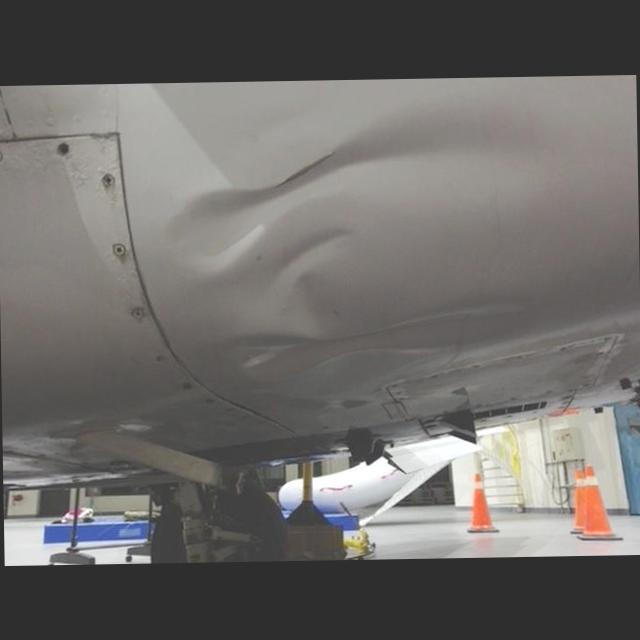Missing Fastener: (52, 132, 82, 160)
dent: (139, 86, 600, 282), (201, 289, 538, 396), (241, 224, 359, 318)
